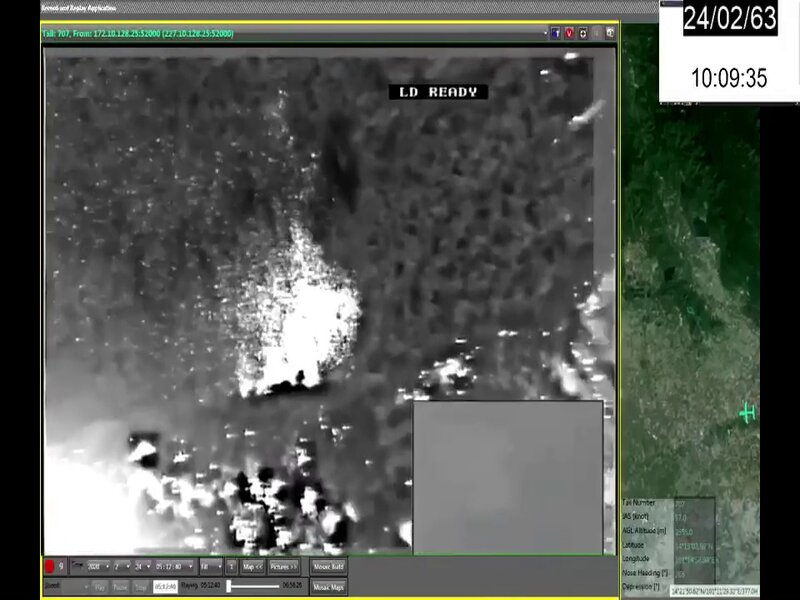Fire: (235, 218, 364, 401)
